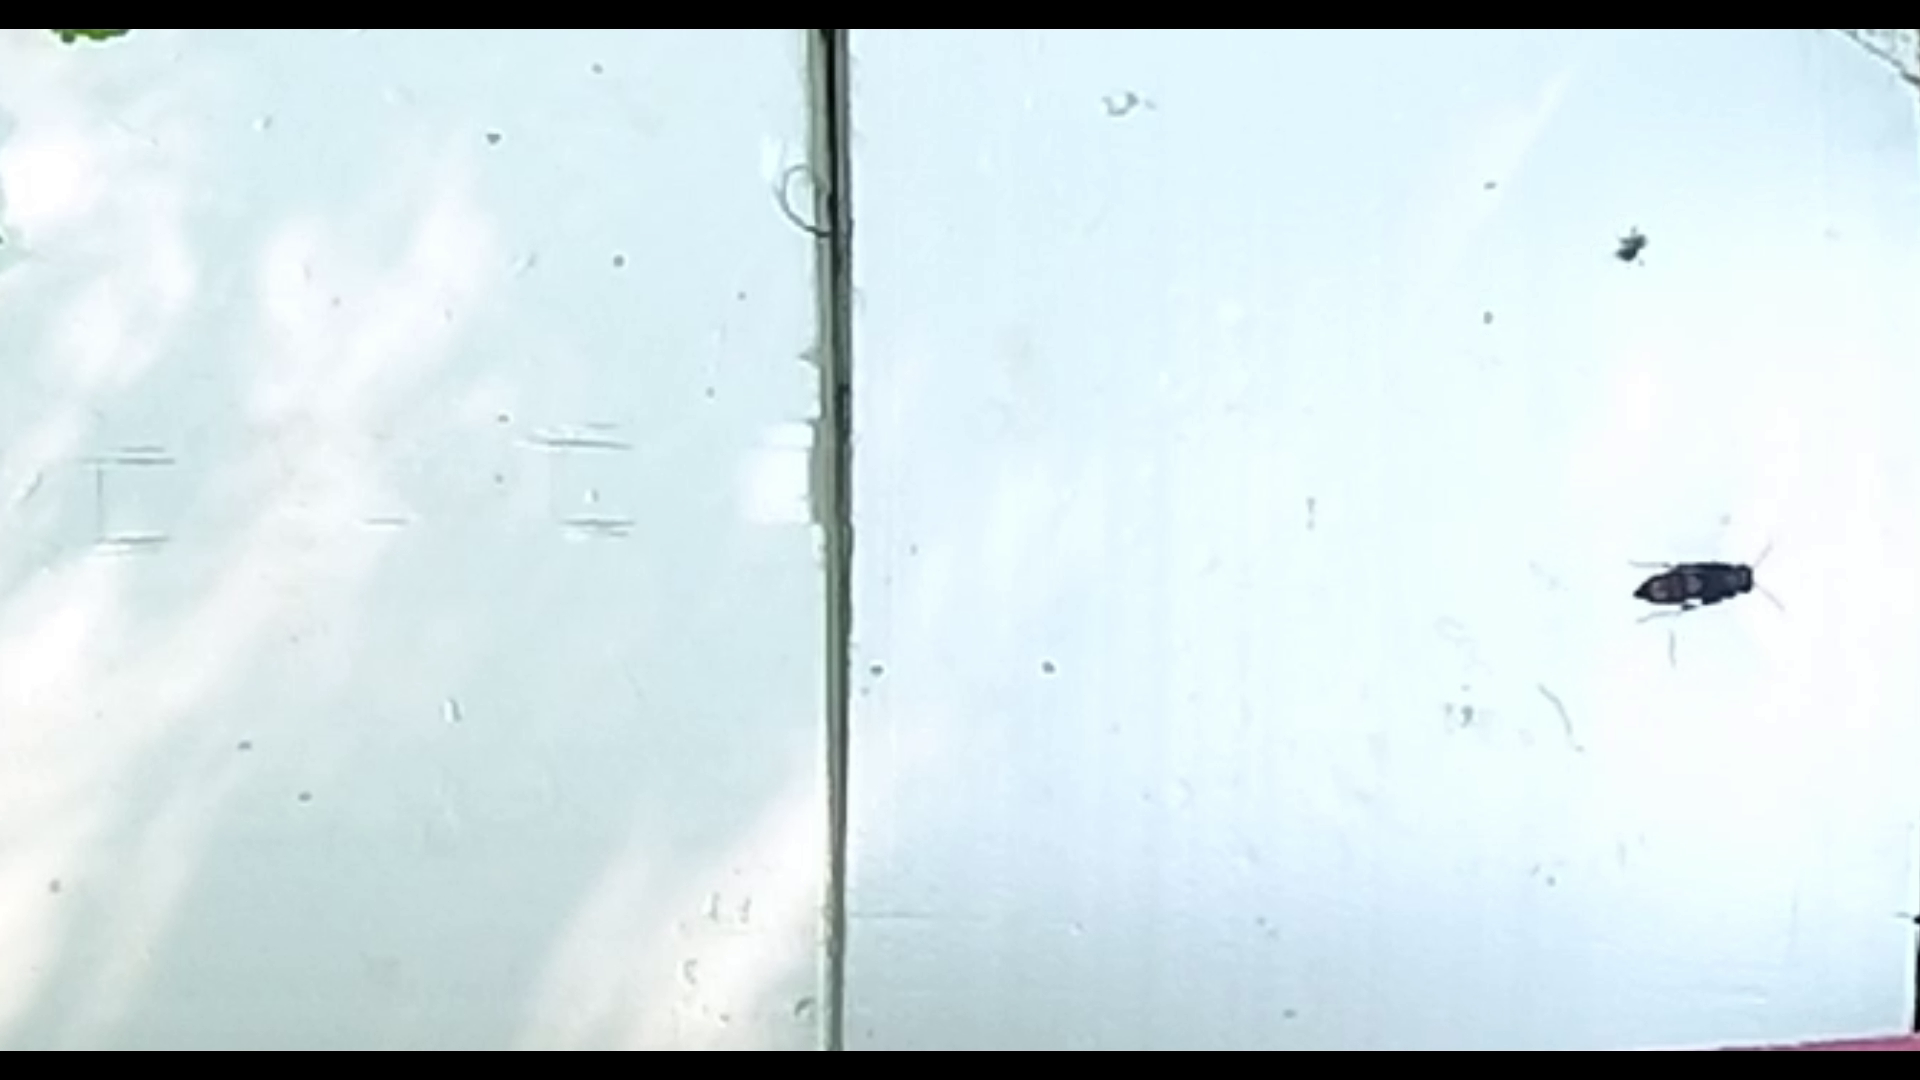Asian_hornets: (1597, 524, 1793, 641)
